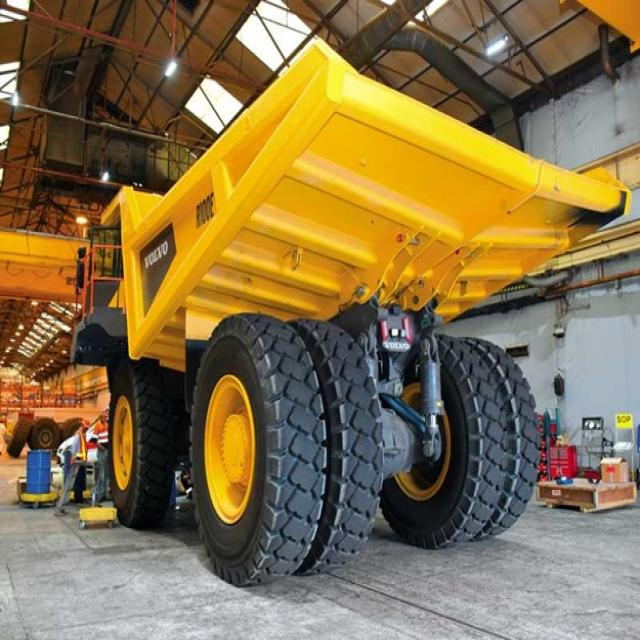dump_truck: (55, 48, 636, 592)
